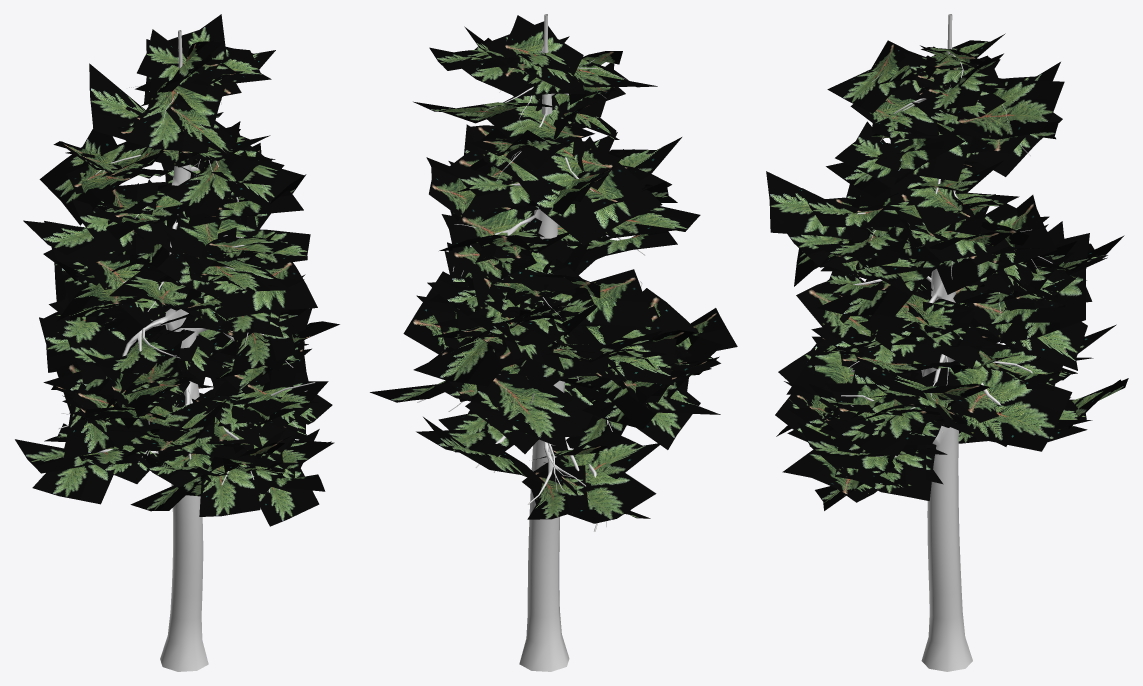
The model's file is Redwood_low.fbx.
3 renders of one model, left to right at view 1: azimuth 30°, elevation 25°; view 2: azimuth 150°, elevation 25°; view 3: azimuth 270°, elevation 25°, orthographic. The views are drawn at different scales.
Visible parts, largest first — view 1: tree.001, tree.001|thumb-foliage_56|Dupli|207, tree.001|thumb-foliage_56|Dupli|133, tree.001|thumb-foliage_56|Dupli|188, tree.001|thumb-foliage_56|Dupli|191, tree.001|thumb-foliage_56|Dupli|26, tree.001|thumb-foliage_56|Dupli|167, tree.001|thumb-foliage_56|Dupli|193, tree.001|thumb-foliage_56|Dupli|204, tree.001|thumb-foliage_56|Dupli|30, tree.001|thumb-foliage_56|Dupli|146, tree.001|thumb-foliage_56|Dupli|101 (+62 smaller); view 2: tree.001, tree.001|thumb-foliage_56|Dupli|188, tree.001|thumb-foliage_56|Dupli|35, tree.001|thumb-foliage_56|Dupli|119, tree.001|thumb-foliage_56|Dupli|153, tree.001|thumb-foliage_56|Dupli|195, tree.001|thumb-foliage_56|Dupli|31, tree.001|thumb-foliage_56|Dupli|, tree.001|thumb-foliage_56|Dupli|203, tree.001|thumb-foliage_56|Dupli|123, tree.001|thumb-foliage_56|Dupli|33, tree.001|thumb-foliage_56|Dupli|85 (+47 smaller); view 3: tree.001, tree.001|thumb-foliage_56|Dupli|55, tree.001|thumb-foliage_56|Dupli|196, tree.001|thumb-foliage_56|Dupli|160, tree.001|thumb-foliage_56|Dupli|123, tree.001|thumb-foliage_56|Dupli|146, tree.001|thumb-foliage_56|Dupli|206, tree.001|thumb-foliage_56|Dupli|117, tree.001|thumb-foliage_56|Dupli|60, tree.001|thumb-foliage_56|Dupli|56, tree.001|thumb-foliage_56|Dupli|138, tree.001|thumb-foliage_56|Dupli|180 (+57 smaller).
Part boxes in pixels (x1,y1,x2,y2): tree.001: (58,30,315,671); tree.001|thumb-foliage_56|Dupli|207: (125,63,230,153); tree.001|thumb-foliage_56|Dupli|133: (198,256,317,317); tree.001|thumb-foliage_56|Dupli|188: (39,128,143,225); tree.001|thumb-foliage_56|Dupli|191: (165,153,257,216); tree.001|thumb-foliage_56|Dupli|26: (199,438,260,516); tree.001|thumb-foliage_56|Dupli|167: (23,220,175,266); tree.001|thumb-foliage_56|Dupli|193: (89,63,153,148); tree.001|thumb-foliage_56|Dupli|204: (137,29,222,96); tree.001|thumb-foliage_56|Dupli|30: (32,439,113,504); tree.001|thumb-foliage_56|Dupli|146: (181,251,291,291); tree.001|thumb-foliage_56|Dupli|101: (232,315,296,370); tree.001: (417,14,645,671); tree.001|thumb-foliage_56|Dupli|188: (518,149,662,245); tree.001|thumb-foliage_56|Dupli|35: (486,373,586,439); tree.001|thumb-foliage_56|Dupli|119: (536,269,654,327); tree.001|thumb-foliage_56|Dupli|153: (453,195,572,299); tree.001|thumb-foliage_56|Dupli|195: (487,94,594,168); tree.001|thumb-foliage_56|Dupli|31: (522,457,656,523); tree.001|thumb-foliage_56|Dupli|: (533,431,662,491); tree.001|thumb-foliage_56|Dupli|203: (500,15,583,92); tree.001|thumb-foliage_56|Dupli|123: (413,337,503,386); tree.001|thumb-foliage_56|Dupli|33: (527,465,588,519); tree.001|thumb-foliage_56|Dupli|85: (596,329,676,385); tree.001: (829,14,1052,671); tree.001|thumb-foliage_56|Dupli|55: (934,371,1072,451); tree.001|thumb-foliage_56|Dupli|196: (953,80,1064,139); tree.001|thumb-foliage_56|Dupli|160: (936,195,1057,294); tree.001|thumb-foliage_56|Dupli|123: (969,284,1087,370); tree.001|thumb-foliage_56|Dupli|146: (766,171,871,241); tree.001|thumb-foliage_56|Dupli|206: (827,40,921,113); tree.001|thumb-foliage_56|Dupli|117: (999,233,1089,343); tree.001|thumb-foliage_56|Dupli|60: (825,395,958,455); tree.001|thumb-foliage_56|Dupli|56: (915,343,1065,422); tree.001|thumb-foliage_56|Dupli|138: (816,259,940,316); tree.001|thumb-foliage_56|Dupli|180: (826,123,964,198).
Size of the model in its own units: 1658 by 3641 by 1857.
1 material, 1 textured.
